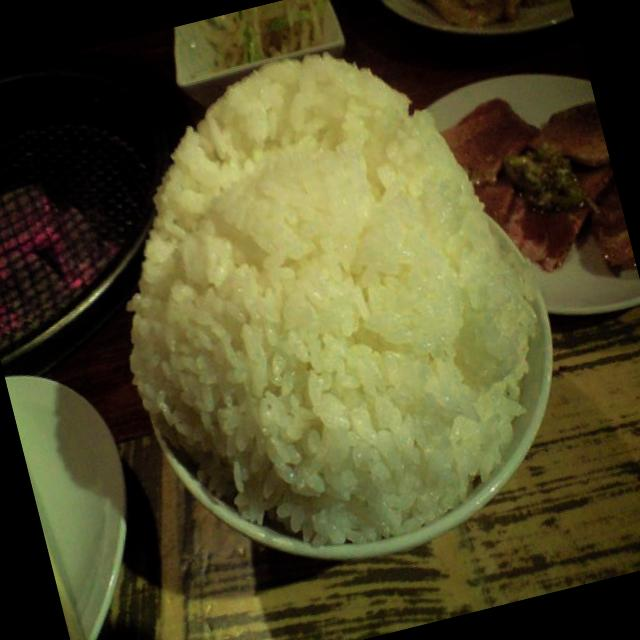Rice: (76, 18, 566, 552)
